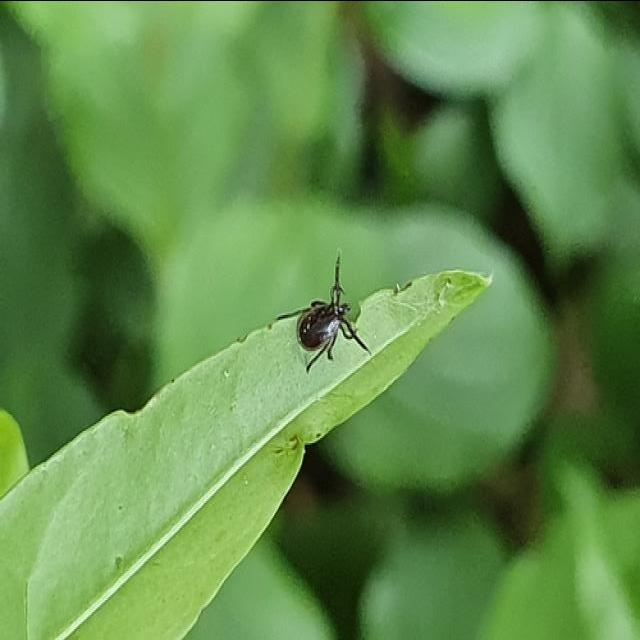Ixodes Ricinus-M: (297, 247, 370, 372)
